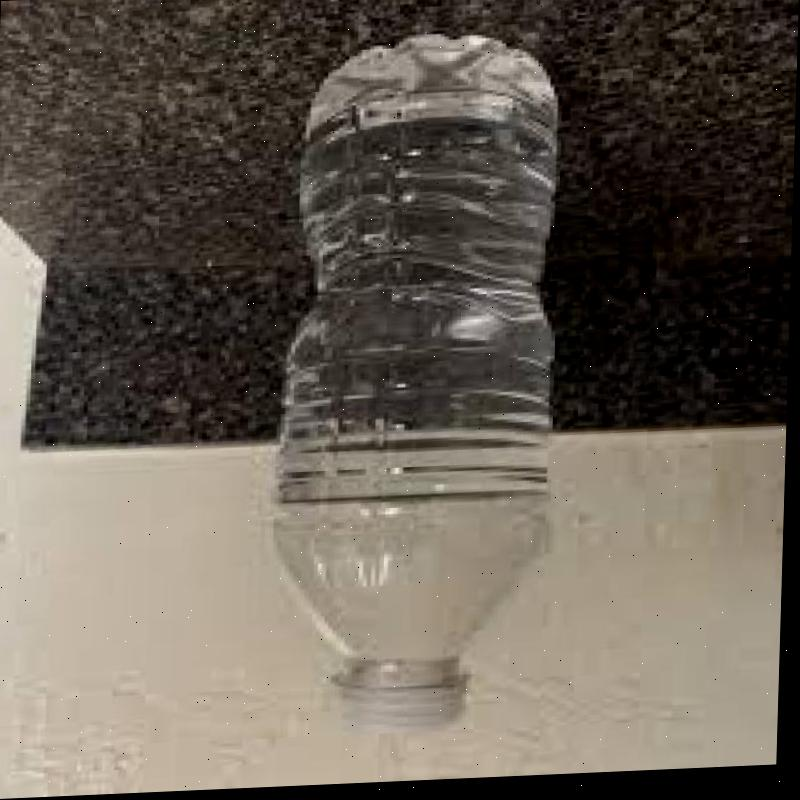botella: (257, 29, 578, 741)
